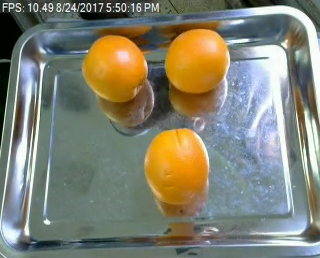Orange: (143, 126, 211, 207), (82, 34, 148, 102), (164, 27, 230, 92)
